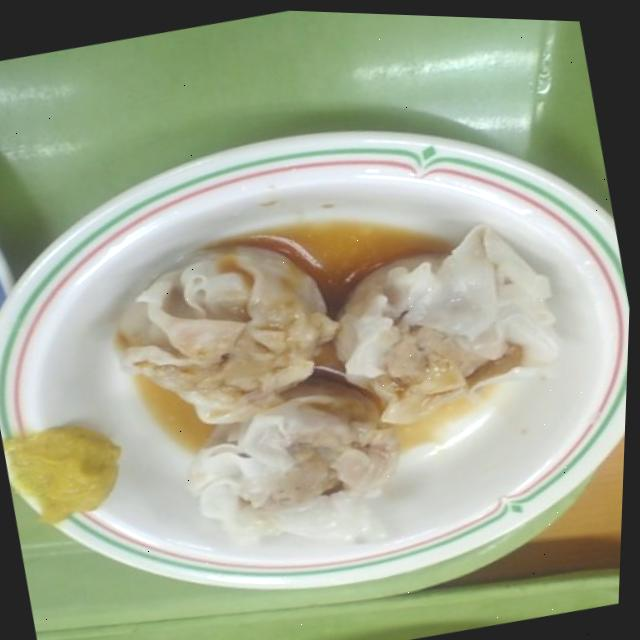带馅早点: (130, 262, 503, 505), (9, 408, 388, 619), (0, 299, 180, 500)
